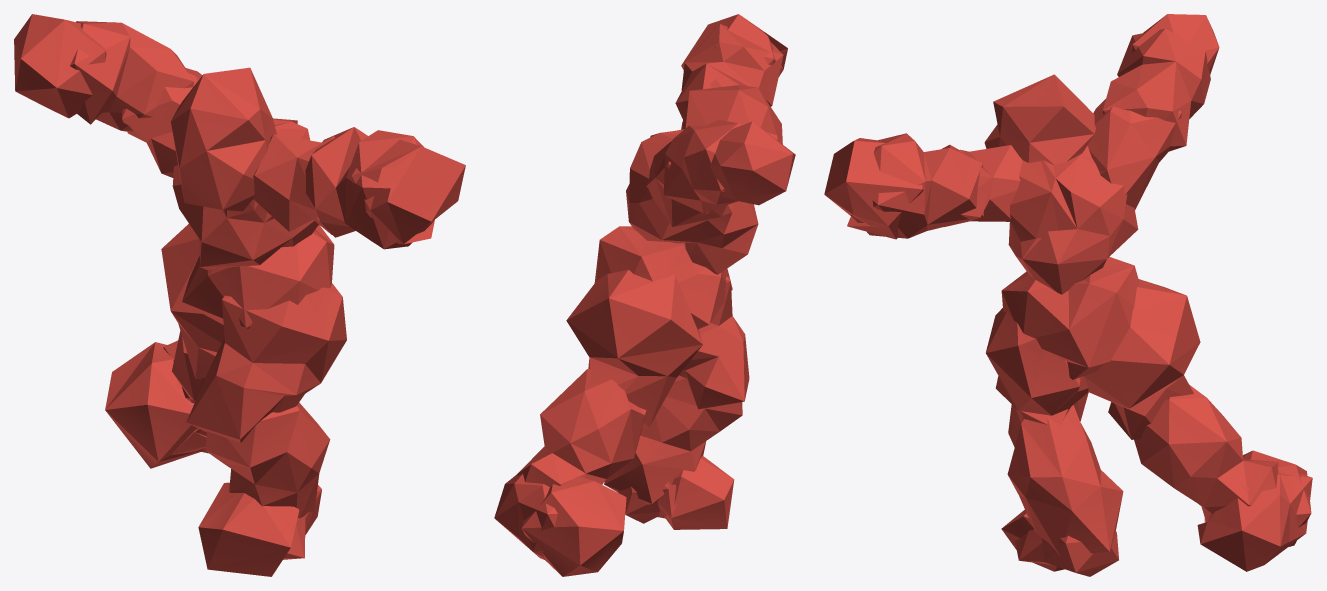
Rendered from dance_frames0360.obj.
The picture shows the model from 3 angles, left to right: view 1: azimuth 30°, elevation 25°; view 2: azimuth 150°, elevation 25°; view 3: azimuth 270°, elevation 25°; orthographic projection. The views are drawn at different scales.
Parts seen in each view (by area): view 1: Beta_Surface; view 2: Beta_Surface; view 3: Beta_Surface.
Part boxes in pixels (left/top/right/bottom): Beta_Surface: left=14, top=14, right=465, bottom=576; Beta_Surface: left=494, top=14, right=795, bottom=576; Beta_Surface: left=824, top=14, right=1312, bottom=576.
Bounding box in the file's own units: 1.13 × 2.01 × 1.81.
